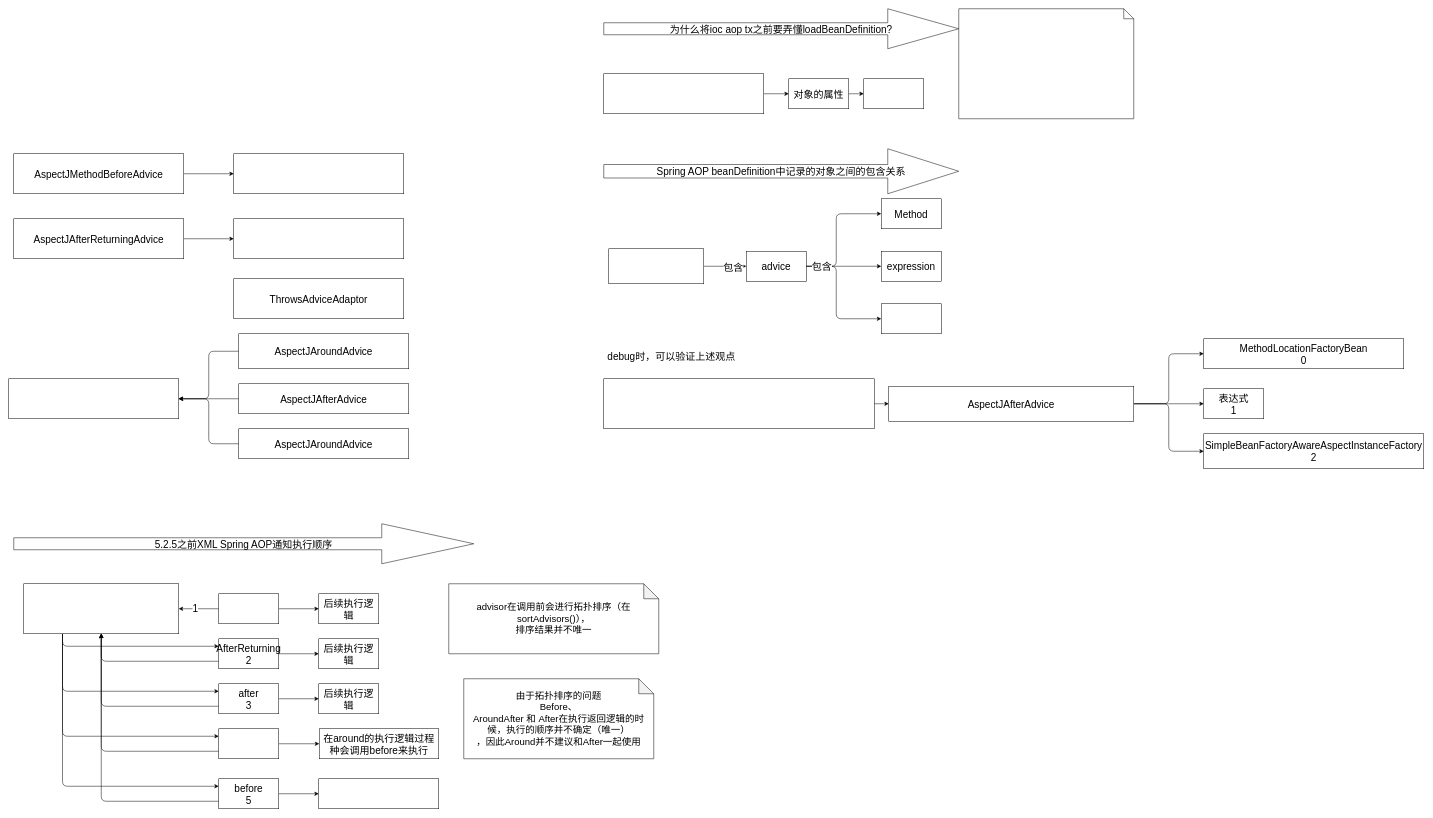
This 1433x818 diagram has some shape labels left out. Here are the shapes that lost their labels. From the top down, the centre of each, then its label:
At pixel 1046 63: "弄懂了对象之间的包含关系， 能够更好的理解spring在后面的步骤中为什么这么做！".
At pixel 683 93: "loadBeanDefinition加载配置文件".
At pixel 893 93: "对象之间的包含关系".
At pixel 318 173: "MethodBeforeAdviceAdaptor".
At pixel 318 238: "AfterReturningAdviceAdaptor".
At pixel 656 266: "Advisor".
At pixel 911 318: "singletonFactory".
At pixel 93 398: "MethodInterceptor".
At pixel 738 403: "AspectJPointCutAdvisor#1".
At pixel 101 608: "exposeInvocationInterceptor 0 根据索引的下标依次获取对应的通知来执行，相当于是联系者".
At pixel 248 608: "AfterThrowing 1".
At pixel 248 743: "around 4".
At pixel 378 793: "Before是在around中间过程种执行的".
